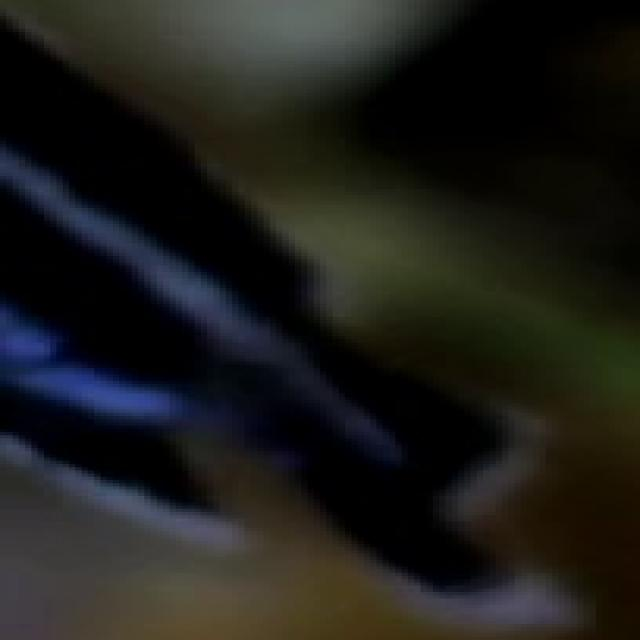fish: (6, 0, 640, 637)
